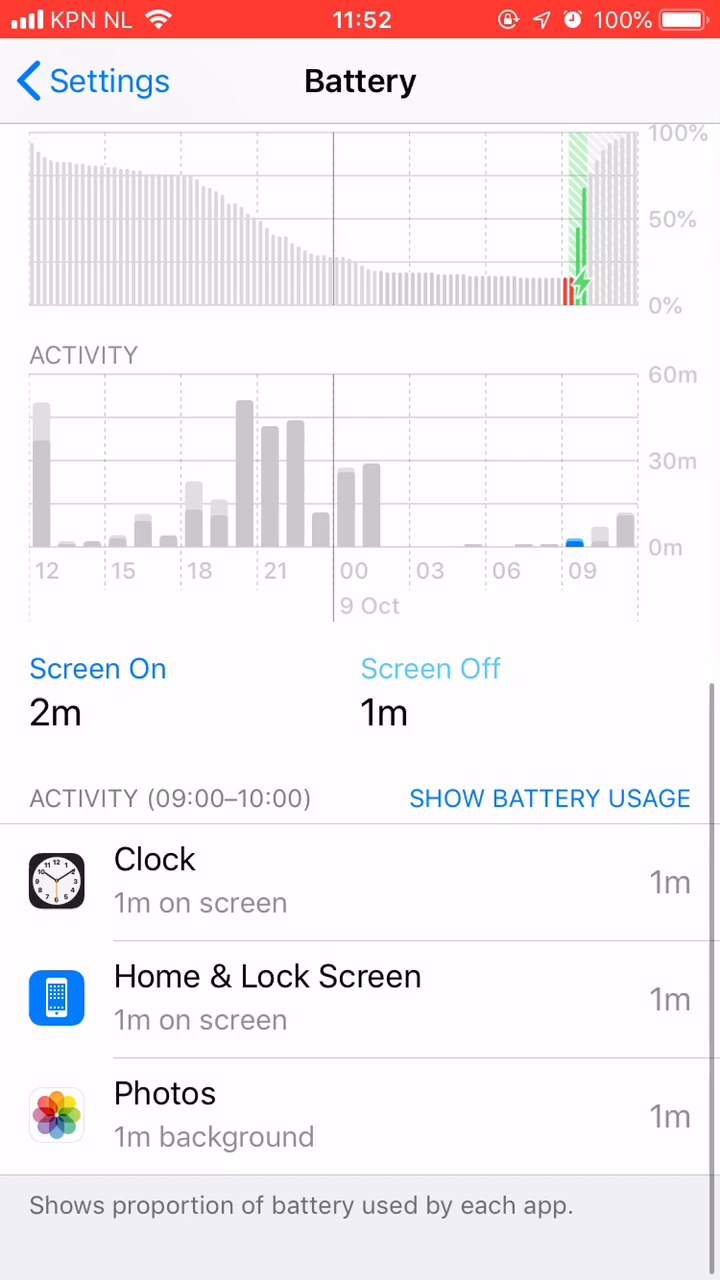activity: (24, 771, 340, 813)
app: (21, 845, 702, 926), (19, 956, 700, 1037), (19, 1082, 700, 1163)
